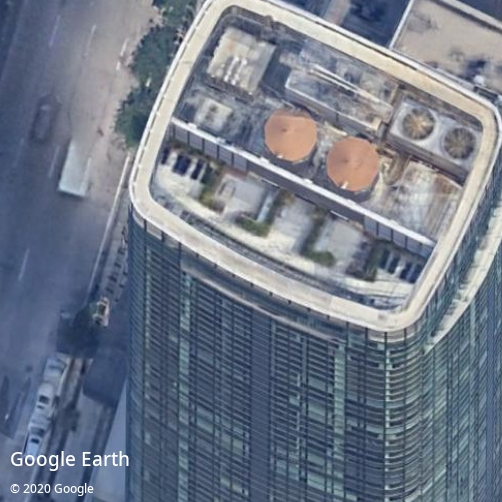Vent: (400, 106, 435, 141), (444, 126, 476, 160)
